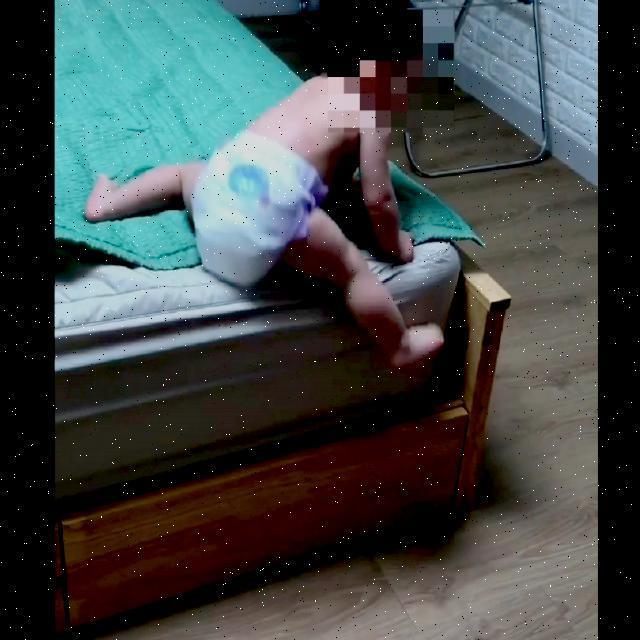child: (84, 0, 445, 377)
